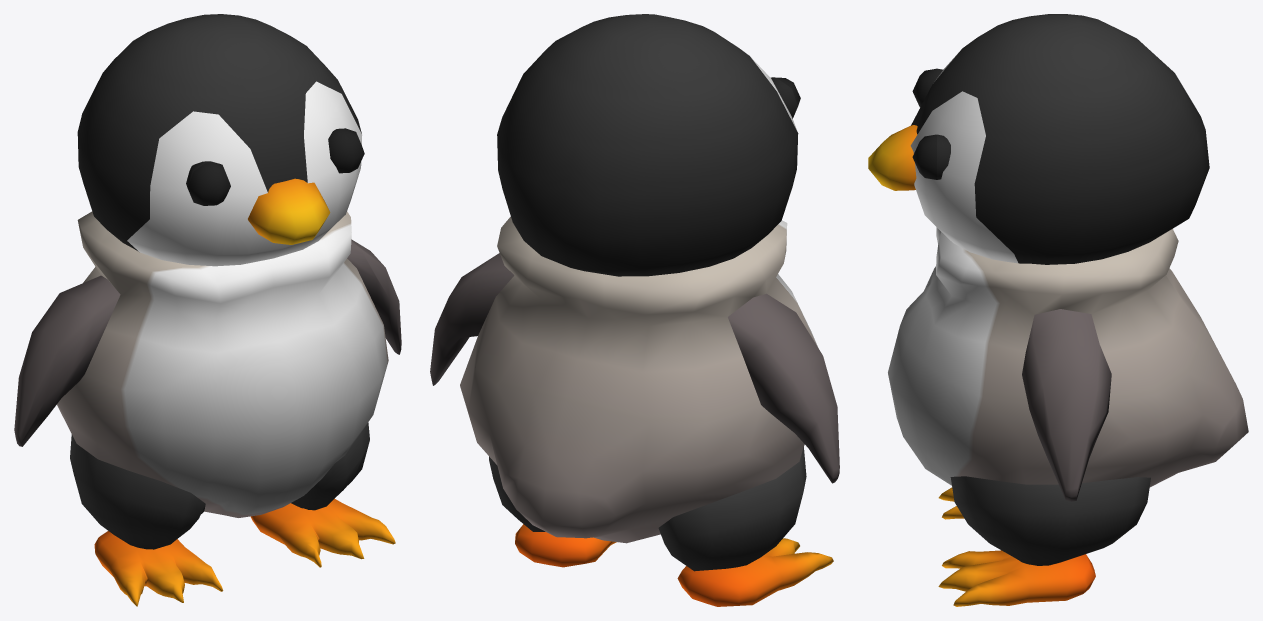
The model's file is Penguin_01.fbx.
The picture shows the model from 3 angles, left to right: view 1: azimuth 30°, elevation 25°; view 2: azimuth 150°, elevation 25°; view 3: azimuth 270°, elevation 25°; orthographic projection. The views are drawn at different scales.
Visible parts, largest first — view 1: Penguin_01; view 2: Penguin_01; view 3: Penguin_01.
Part boxes in pixels (x1,y1,x2,y2): Penguin_01: (14,14,401,606); Penguin_01: (430,14,839,606); Penguin_01: (868,14,1248,606).
Size of the model in its own units: 50.28 by 64.61 by 42.88.
